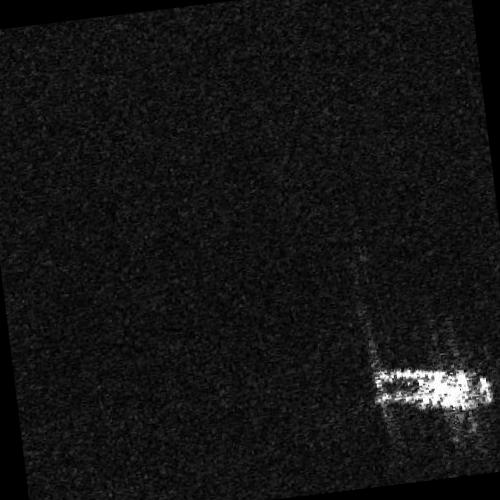ship: (371, 367, 492, 411)
